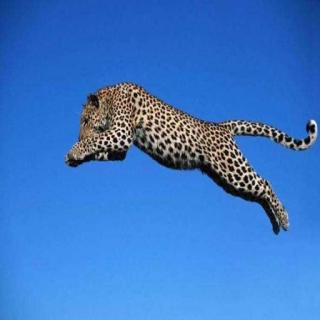Leopard: (64, 67, 320, 234)
